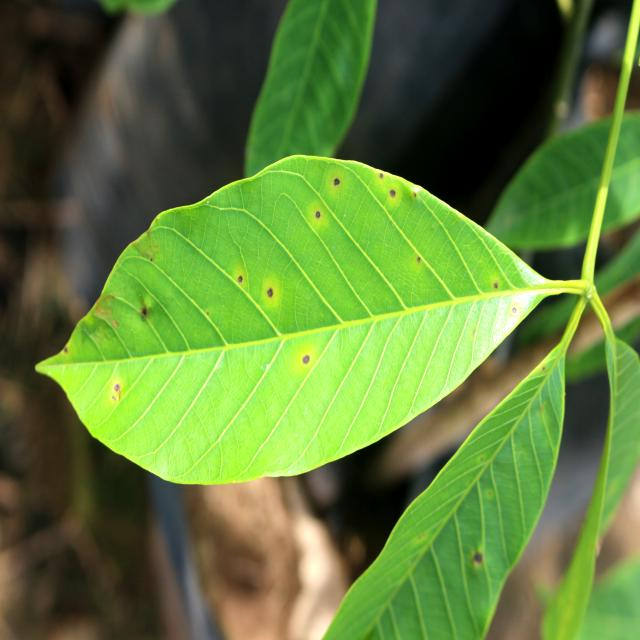Colletotrichum: (302, 354, 310, 364), (268, 288, 273, 298), (334, 178, 340, 186), (390, 190, 395, 197), (238, 276, 242, 282), (316, 212, 320, 218)
